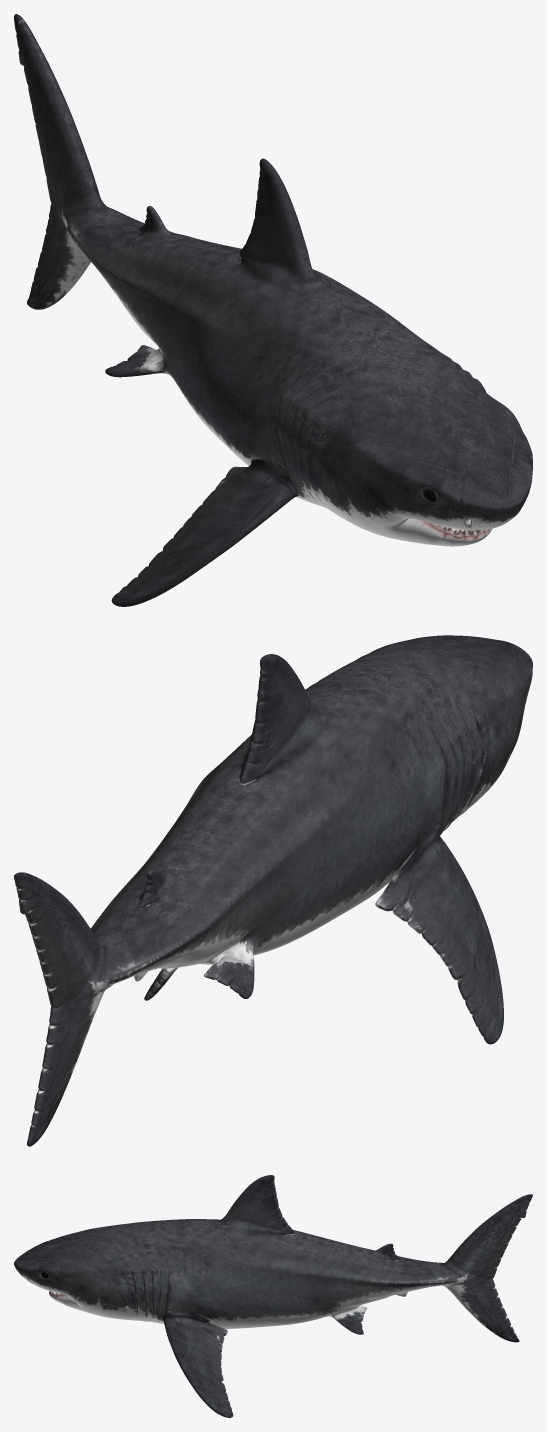
Rendered from reef_life_great_white_shark_under25mb.glb.
3 views of the same model, one above another, from view 1: azimuth 30°, elevation 25°; view 2: azimuth 150°, elevation 25°; view 3: azimuth 270°, elevation 25° (orthographic). The views are drawn at different scales.
Bounding box in the file's own units: 0.8502 × 0.7852 × 1.9.
1 material, 1 textured.
